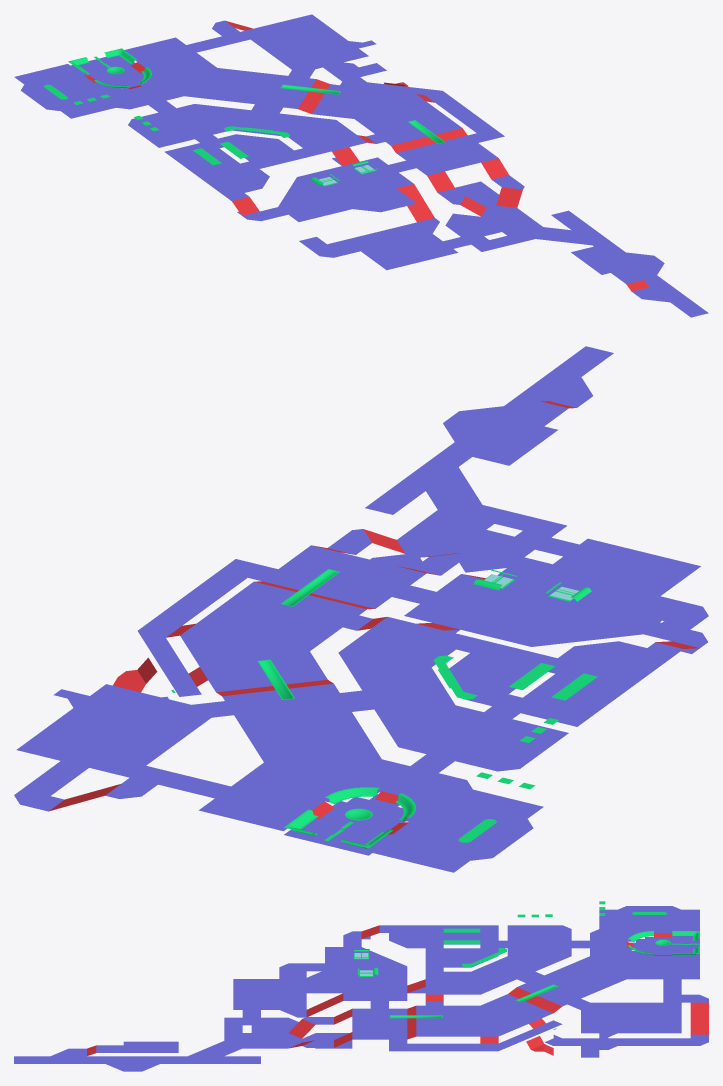
The model's file is Encounter_002_Floor.fbx.
The picture shows the model from 3 angles, top to bottom: view 1: azimuth 30°, elevation 25°; view 2: azimuth 150°, elevation 25°; view 3: azimuth 270°, elevation 25°; orthographic projection. The views are drawn at different scales.
Visible parts, largest first — view 1: Encounter_002_Floor; view 2: Encounter_002_Floor; view 3: Encounter_002_Floor.
Part boxes in pixels (x1,y1,x2,y2): Encounter_002_Floor: (14,14,708,317); Encounter_002_Floor: (14,346,708,872); Encounter_002_Floor: (14,901,708,1071).
Bounding box in the file's own units: 7400 × 810 × 15200.
